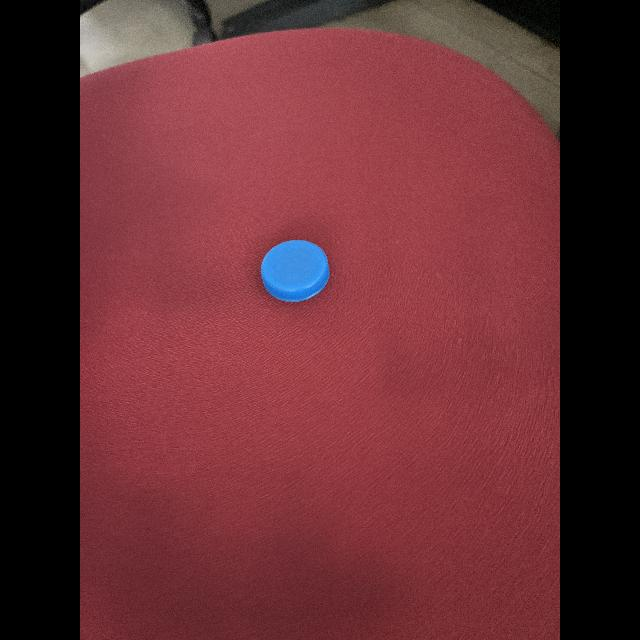plastic_bottle_cap: (258, 230, 336, 308)
